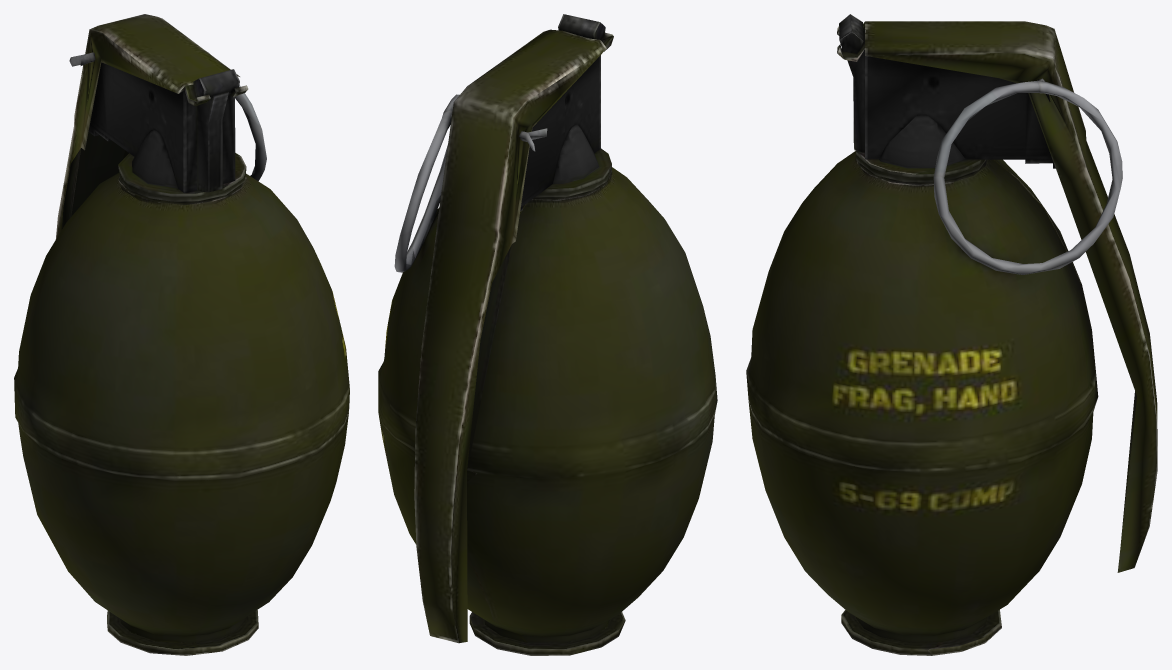
File: grenade.glb
3 views of the same model, side by side, from view 1: azimuth 30°, elevation 25°; view 2: azimuth 150°, elevation 25°; view 3: azimuth 270°, elevation 25° (orthographic). The views are drawn at different scales.
Visible parts, largest first — view 1: Grenade; view 2: Grenade; view 3: Grenade.
Boxes of the visible parts, left/top/right/bottom form: Grenade: left=14, top=14, right=349, bottom=655; Grenade: left=378, top=14, right=717, bottom=655; Grenade: left=746, top=14, right=1157, bottom=655.
Size of the model in its own units: 0.0587 by 0.1106 by 0.0689.
Materials: 1 (1 with a texture image).
